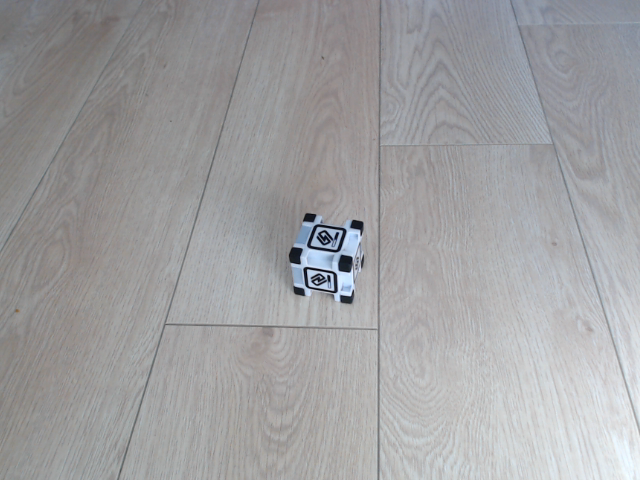block: (288, 211, 369, 307)
